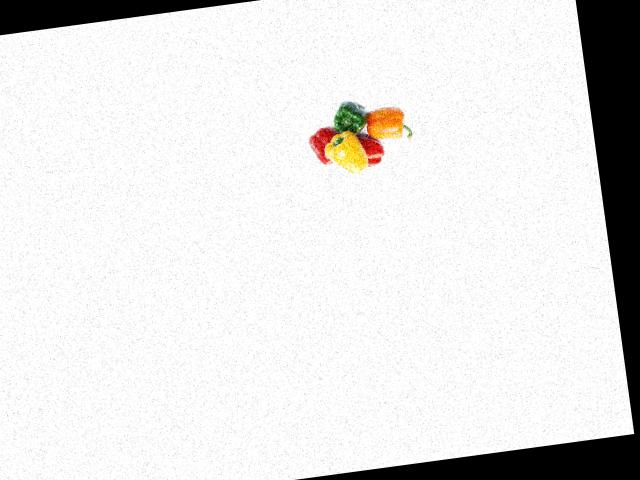bell_pepper: (322, 93, 372, 147)
